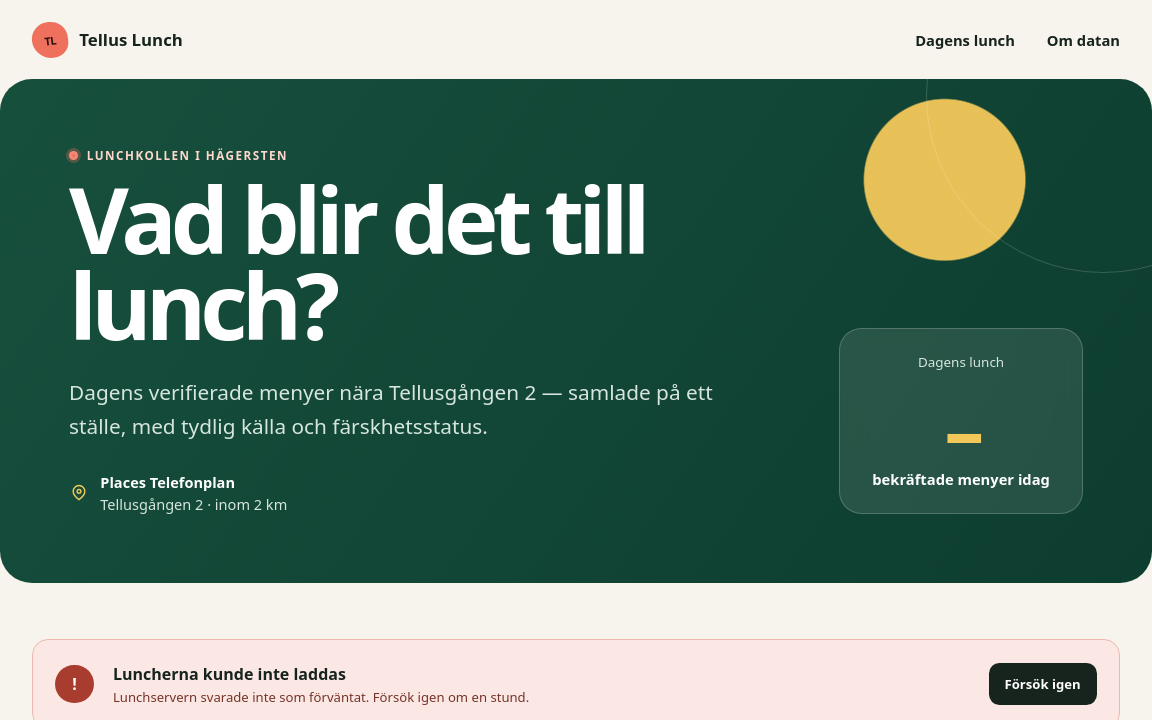
Test: lunch dashboard › shows a useful API error and retries successfully
Expected: the message shows "Luncherna kunde inte laddas", [113,662,346,684]
Click the button "Försök igen".
click(1043, 684)  # box [988,663,1097,705]
(page scrolled)
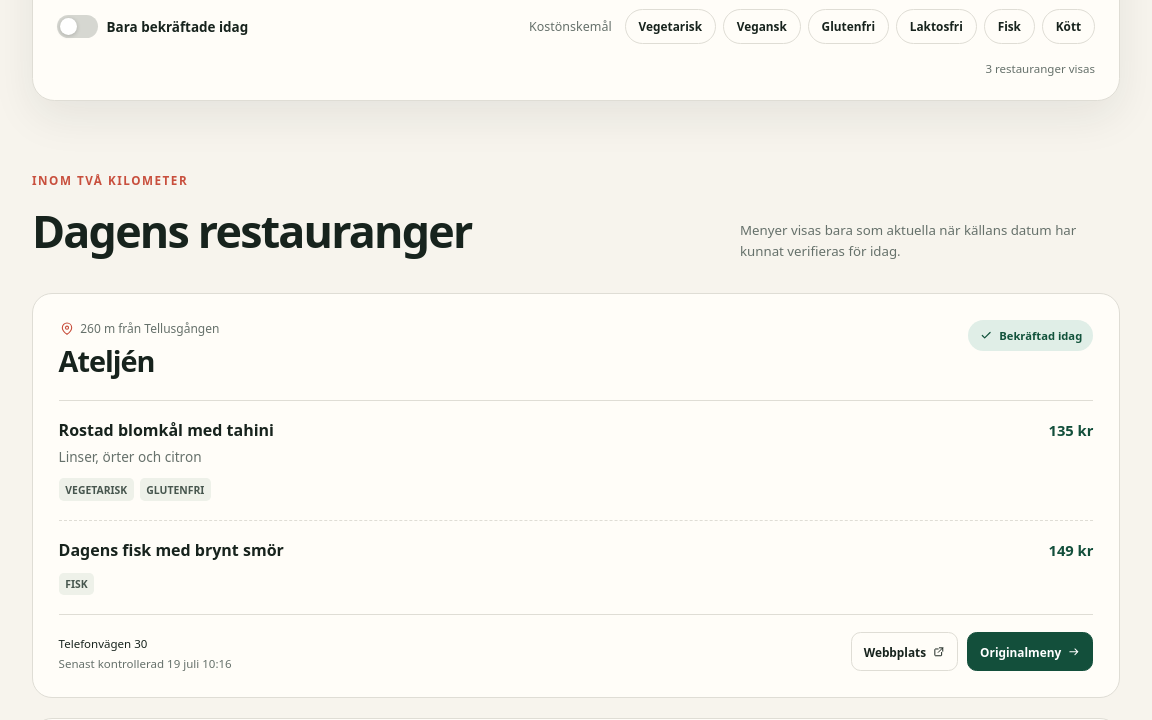
Result: the heading "Ateljén" is shown at [59,341,154,380]
